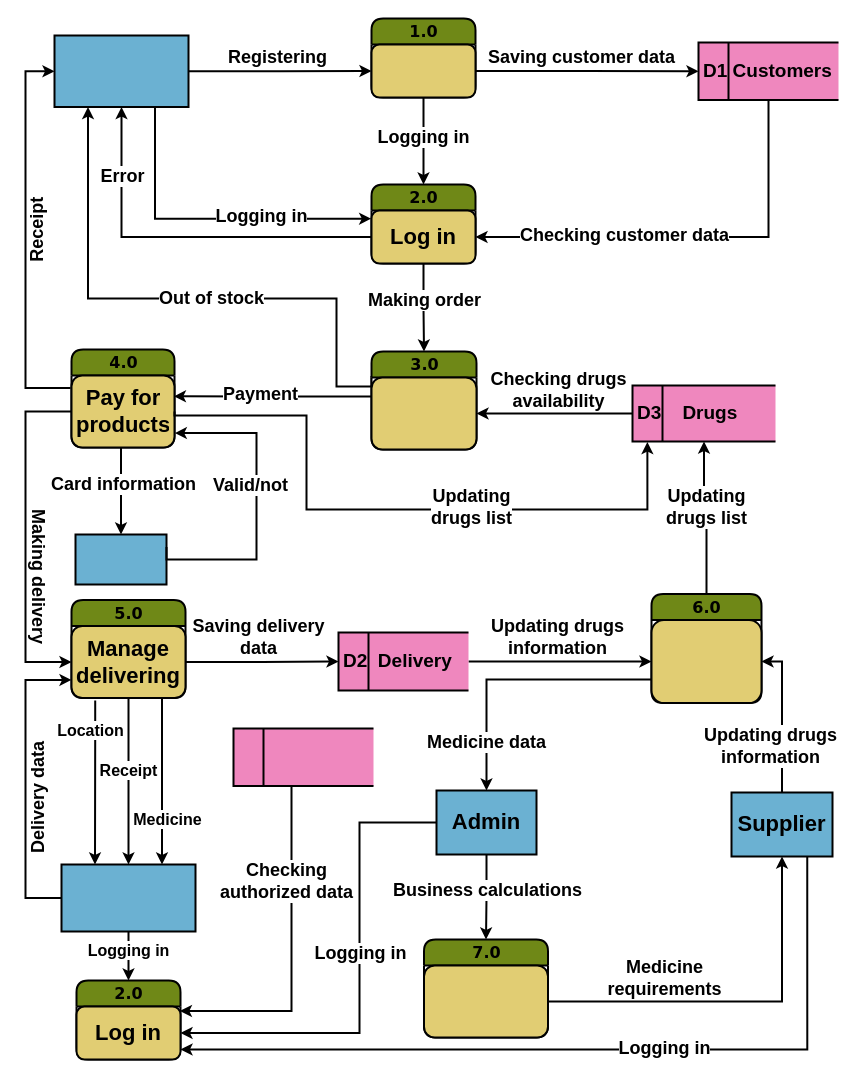
The diagram is 856 pixels wide and 1077 high, and some of its shapes have lost their labels. Each missing label, with the centre of its shape:
Bank: the point at 120,559
Customer: the point at 121,71
D4 Authorized: the point at 303,756
Delivery man: the point at 128,897
Make order: the point at 423,413
Manage drugs information: the point at 706,661
Management and stocks: the point at 485,1001
Sign up: the point at 423,70
